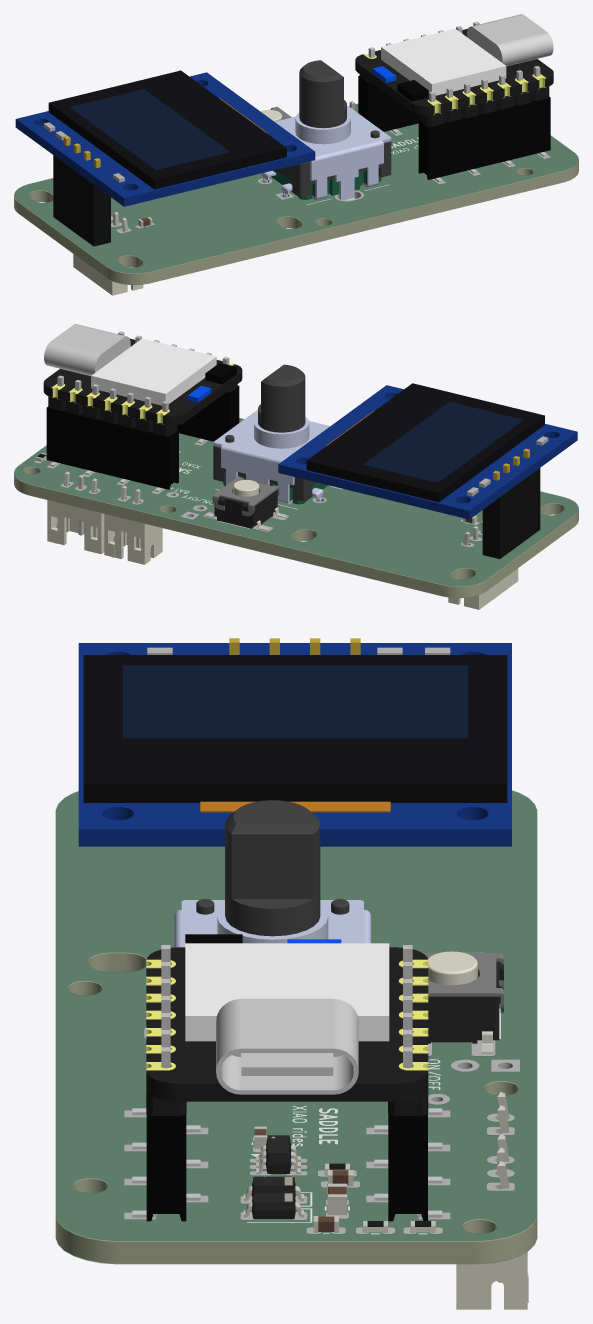
File: reins-guitar.glb
3 renders of one model, top to bottom at view 1: azimuth 30°, elevation 25°; view 2: azimuth 150°, elevation 25°; view 3: azimuth 270°, elevation 25°, orthographic. The views are drawn at different scales.
Visible parts, largest first — view 1: =>[0:1:1:141], =>[0:1:1:139], =>[0:1:1:127], glass, pcb, pixels, SoC_nRF_Sense001, Board001, USB001, socket, Body038, Body033 (+12 smaller); view 2: =>[0:1:1:141], =>[0:1:1:139], glass, =>[0:1:1:127], pcb, pixels, SoC_nRF_Sense001, Board001, USB001, socket, =>[0:1:1:129], =>[0:1:1:133] (+15 smaller); view 3: =>[0:1:1:141], =>[0:1:1:139], glass, pixels, pcb, =>[0:1:1:127], SoC_nRF_Sense001, USB001, Board001, =>[0:1:1:129], =>[0:1:1:136], Body042 (+9 smaller).
Part boxes in pixels (box(x1,y1,x2,y2)): =>[0:1:1:141]: box(14, 104, 578, 284); =>[0:1:1:139]: box(14, 103, 578, 273); =>[0:1:1:127]: box(261, 60, 391, 200); glass: box(48, 70, 286, 189); pcb: box(15, 72, 315, 206); pixels: box(69, 89, 229, 170); SoC_nRF_Sense001: box(381, 28, 506, 95); Board001: box(355, 29, 553, 115); USB001: box(467, 14, 553, 66); socket: box(53, 170, 110, 246); Body038: box(418, 120, 445, 179); Body033: box(358, 75, 385, 131); =>[0:1:1:141]: box(14, 419, 578, 597); =>[0:1:1:139]: box(14, 418, 578, 586); glass: box(306, 383, 544, 502); =>[0:1:1:127]: box(213, 364, 329, 504); pcb: box(278, 385, 577, 519); pixels: box(363, 401, 523, 482); SoC_nRF_Sense001: box(91, 338, 216, 405); Board001: box(43, 338, 242, 425); USB001: box(44, 324, 130, 375); socket: box(482, 482, 540, 558); =>[0:1:1:129]: box(205, 476, 287, 530); =>[0:1:1:133]: box(104, 485, 162, 564); =>[0:1:1:141]: box(55, 791, 537, 1263); =>[0:1:1:139]: box(55, 790, 537, 1241); glass: box(83, 655, 507, 802); pixels: box(123, 665, 467, 738); pcb: box(78, 643, 511, 846); =>[0:1:1:127]: box(174, 800, 371, 947); SoC_nRF_Sense001: box(185, 943, 389, 1041); USB001: box(216, 998, 358, 1094); Board001: box(146, 947, 428, 1101); =>[0:1:1:129]: box(422, 951, 503, 1053); =>[0:1:1:136]: box(124, 1027, 519, 1233); Body042: box(146, 1113, 186, 1221).
Bounding box in the file's own units: 0.0685 × 0.0227 × 0.0303.
